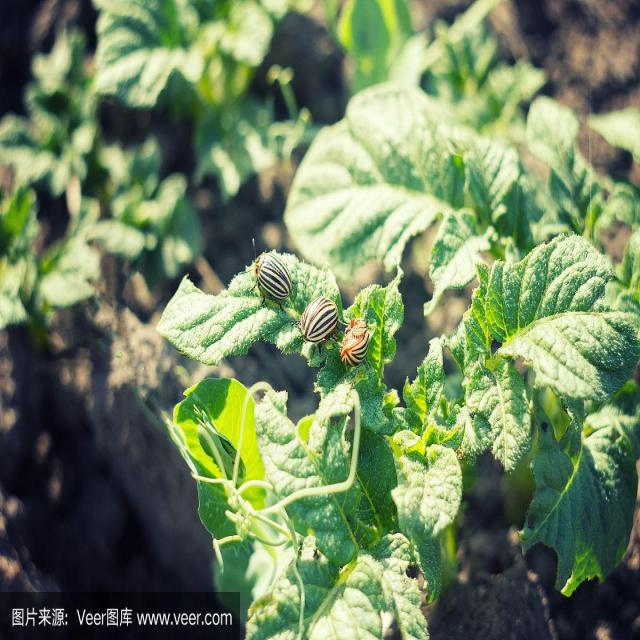ShuCaiHuaBanChong-Grown-: (248, 249, 288, 307), (302, 282, 339, 342), (341, 308, 374, 372)
